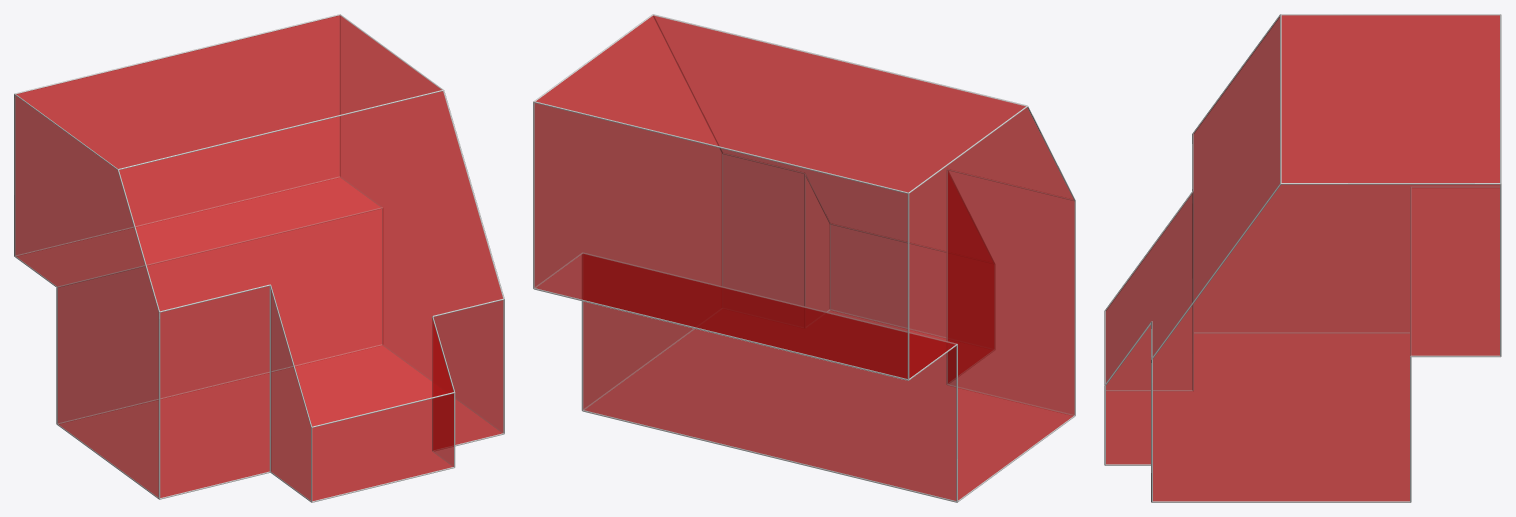
3 renders of one model, left to right at view 1: azimuth 30°, elevation 25°; view 2: azimuth 150°, elevation 25°; view 3: azimuth 270°, elevation 25°, orthographic. The views are drawn at different scales.
Visible parts, largest first — view 1: root; view 2: root; view 3: root.
Boxes of the visible parts, <box> form: root: <box>14,14,504,502</box>; root: <box>533,14,1075,502</box>; root: <box>1104,14,1501,502</box>.
Bounding box in the file's own units: 45.74 × 40.2 × 45.25.
